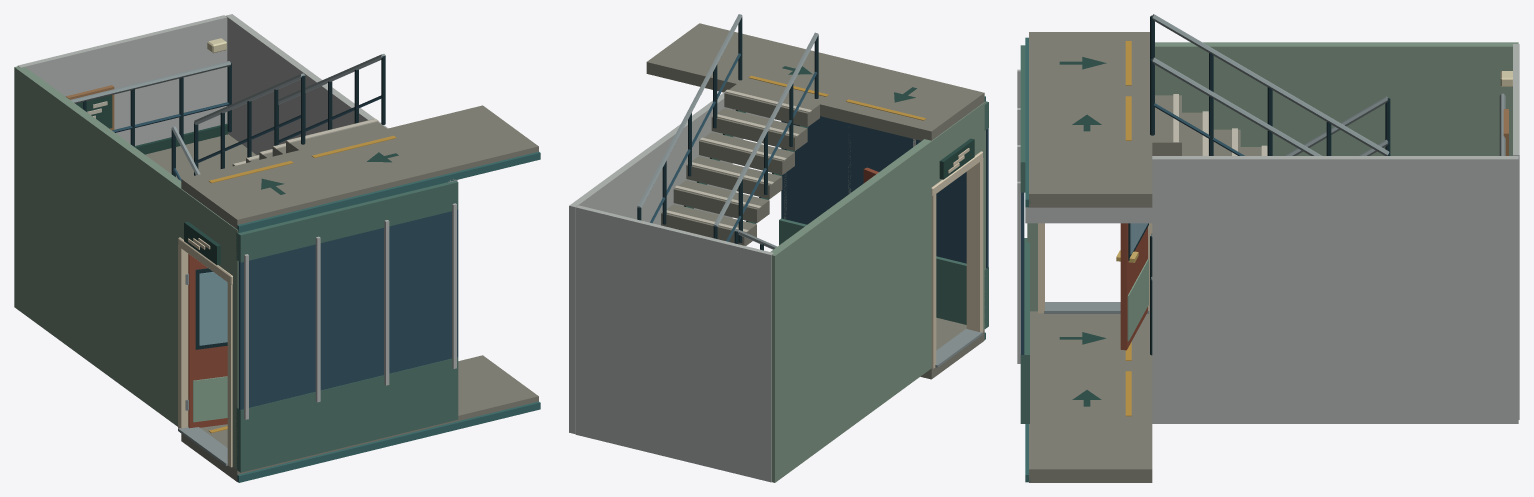
File: stairwell.glb
3 renders of one model, left to right at view 1: azimuth 30°, elevation 25°; view 2: azimuth 150°, elevation 25°; view 3: azimuth 270°, elevation 25°, orthographic. The views are drawn at different scales.
Visible parts, largest first — view 1: cutaway_core_face, cutaway_stair_west, stair_flights_and_turn_landing, stair_top_landing, cutaway_stair_east, stair_front_landing, intact_door, stair_fire_door_frame, intact_notice_board; view 2: stair_flights_and_turn_landing, cutaway_stair_west, stair_top_landing, cutaway_core_face, cutaway_stair_east, stair_fire_door_frame, stair_front_landing; view 3: cutaway_stair_east, cutaway_stair_west, stair_top_landing, stair_front_landing, stair_flights_and_turn_landing, cutaway_core_face, intact_door, stair_fire_door_frame.
Part boxes in pixels (box(x1,y1,x2,y2)): cutaway_core_face: box(236, 181, 458, 472); cutaway_stair_west: box(14, 66, 238, 469); stair_flights_and_turn_landing: box(18, 15, 386, 180); stair_top_landing: box(181, 105, 540, 232); cutaway_stair_east: box(226, 14, 457, 182); stair_front_landing: box(181, 355, 540, 482); intact_door: box(185, 254, 227, 428); stair_fire_door_frame: box(178, 38, 232, 467); intact_notice_board: box(66, 85, 114, 130); stair_flights_and_turn_landing: box(575, 14, 819, 482); cutaway_stair_west: box(770, 101, 985, 482); stair_top_landing: box(646, 23, 985, 140); cutaway_core_face: box(779, 101, 988, 328); cutaway_stair_east: box(569, 92, 769, 434); stair_fire_door_frame: box(931, 138, 983, 368); stair_front_landing: box(920, 317, 985, 379); cutaway_stair_east: box(1025, 156, 1518, 423); cutaway_stair_west: box(1027, 42, 1518, 311); stair_top_landing: box(1025, 32, 1152, 207); stair_front_landing: box(1025, 311, 1152, 482); stair_flights_and_turn_landing: box(1150, 14, 1519, 419); cutaway_core_face: box(1017, 45, 1029, 423); intact_door: box(1116, 223, 1148, 350); stair_fire_door_frame: box(1038, 71, 1512, 313).
Size of what is drawn, in the model's own units: 4.12 by 4.32 by 5.29.
